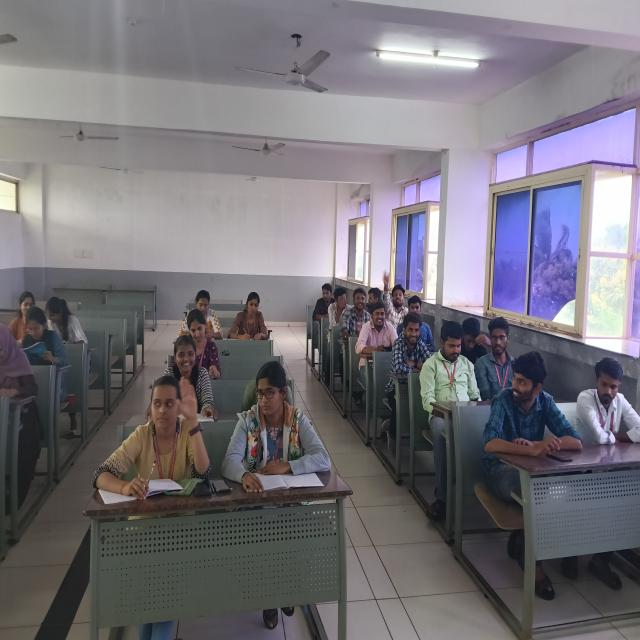Hand Rising: (99, 375, 216, 491)
Reading: (15, 306, 70, 369), (182, 308, 224, 378)
Using Phone: (475, 343, 578, 466), (418, 319, 483, 410), (355, 302, 406, 357), (180, 288, 224, 340)
Writing: (222, 287, 275, 347)
